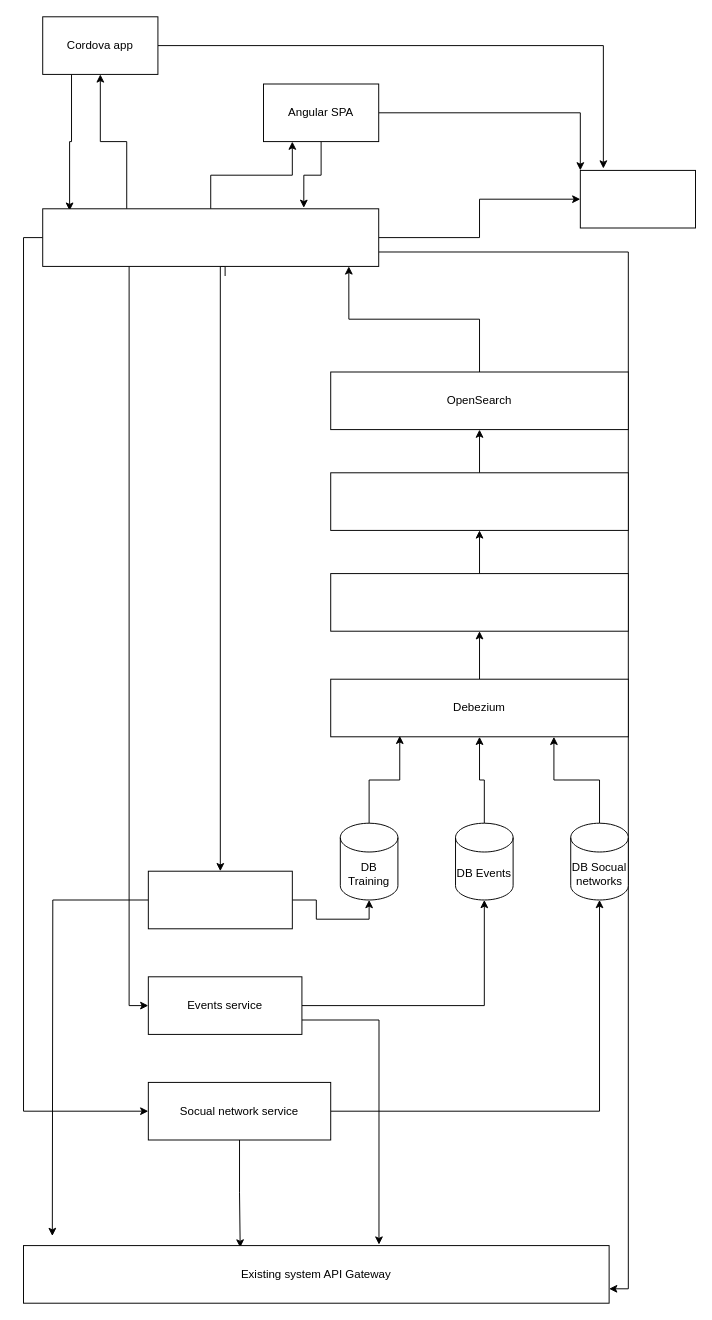
The diagram is 712 pixels wide and 1320 high, and some of its shapes have lost their labels. Here are the shapes that lost their labels. From the top down, the centre of each, then its label:
At [637,198]: "Identity service".
At [210,237]: "GraphQL API".
At [479,501]: "Message digest".
At [479,602]: "Apache Kafka".
At [219,899]: "Trainings service".
